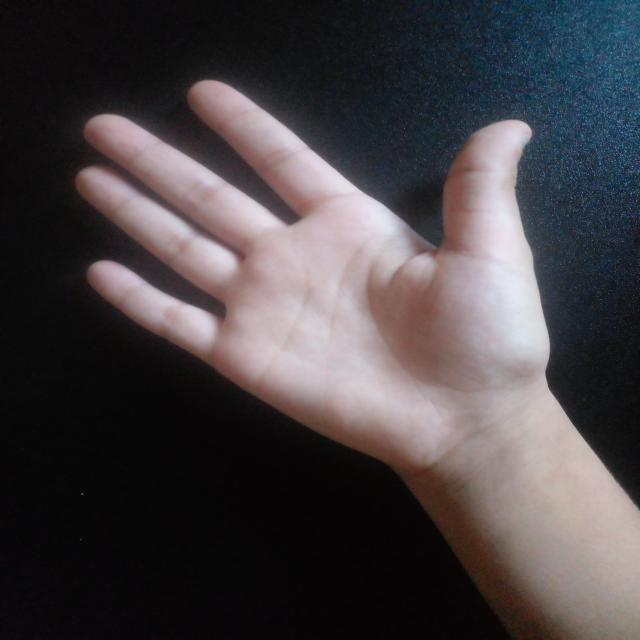Open Hand: (72, 70, 554, 475)
